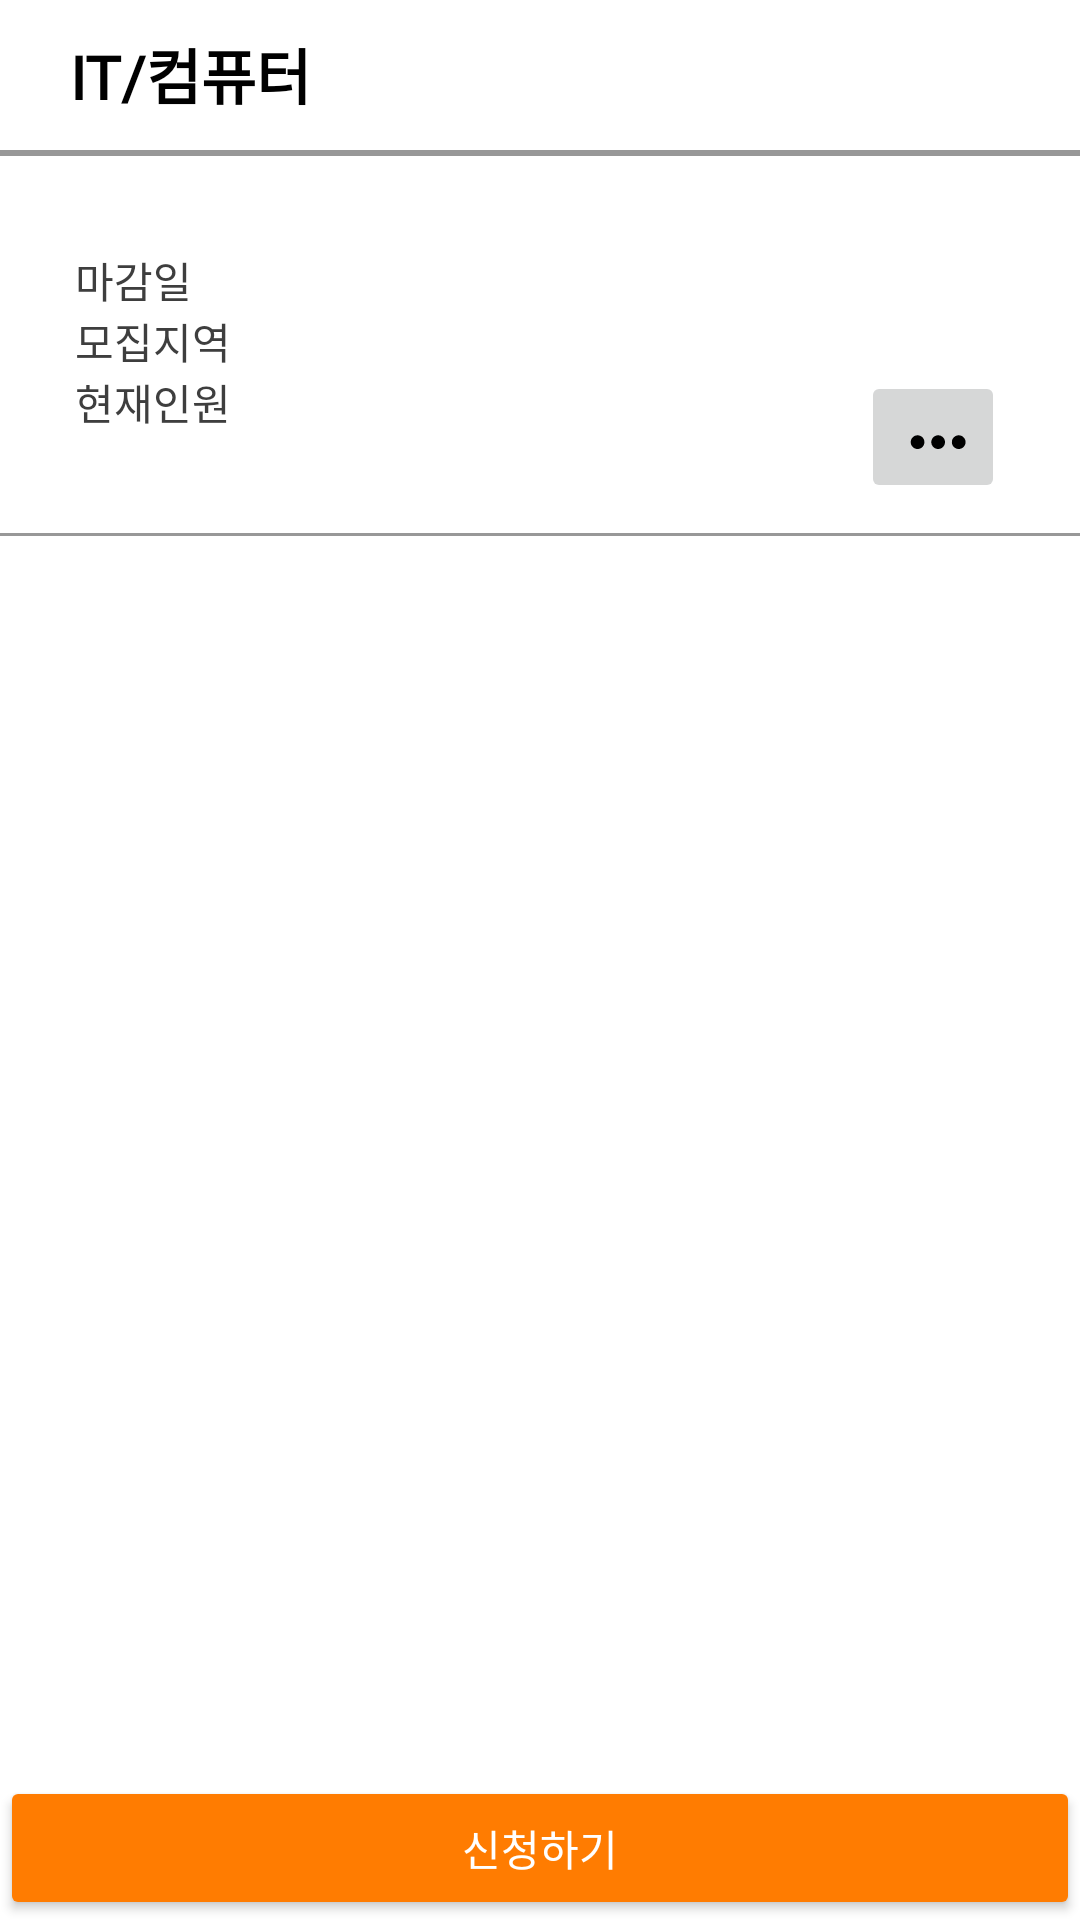

Screen size 1080 x 1920. Icon name, then its box in pixels as (x1, y1, x2, y2):
more horiz: (873, 389, 993, 485)
